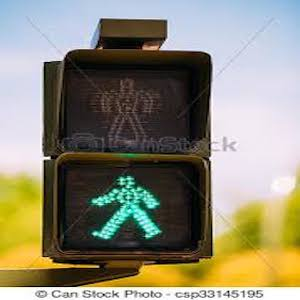green: (78, 167, 174, 244)
